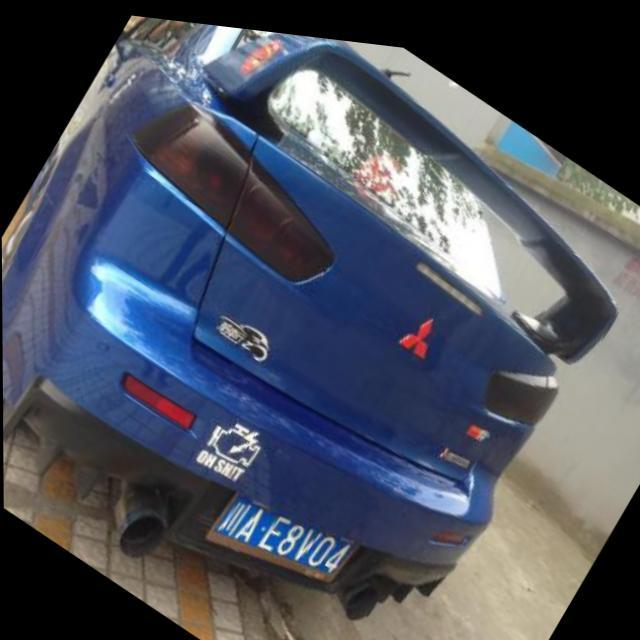license_plate: (202, 461, 375, 623)
